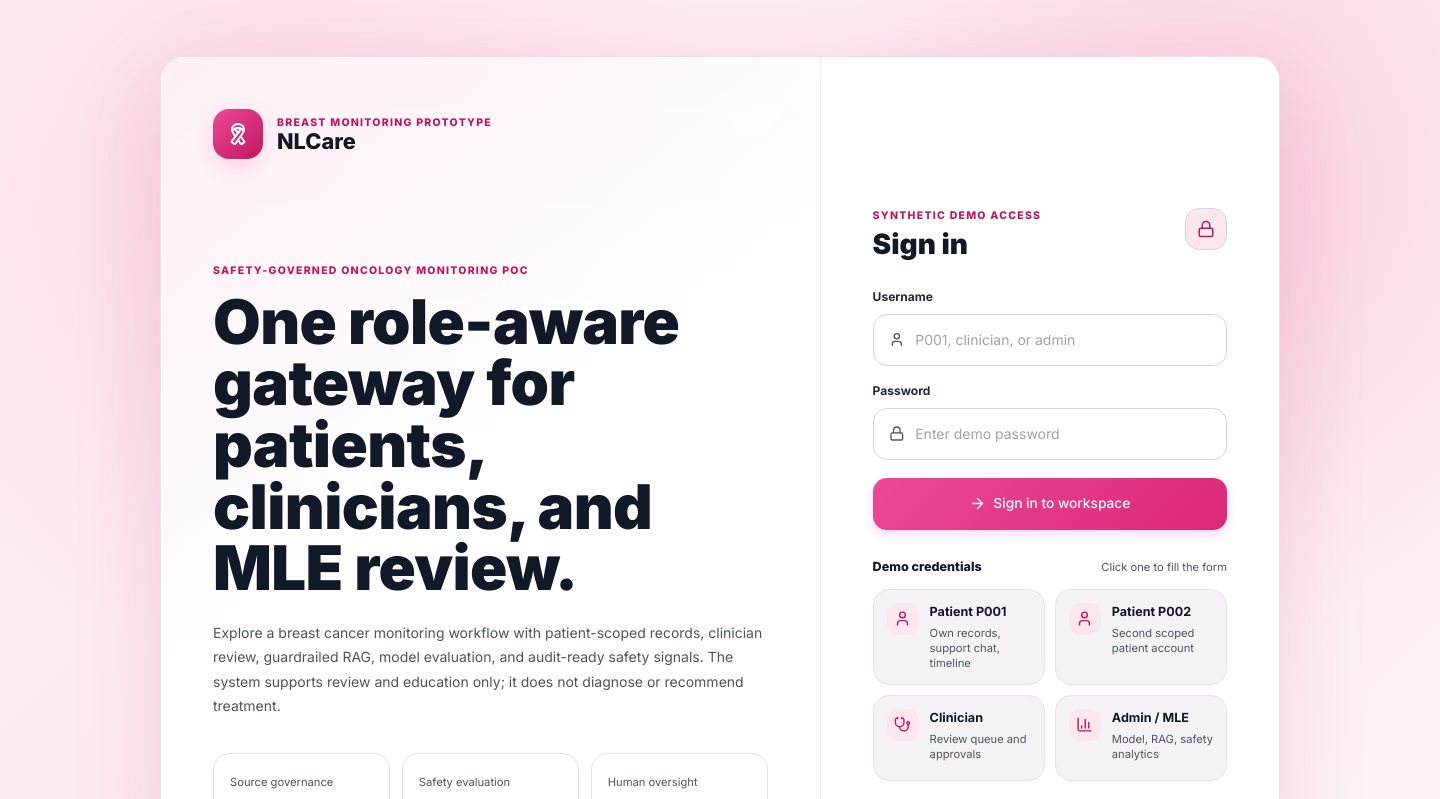
authentication and route boundaries › fills demo credentials without submitting them
The image size is (1440, 799).
Click the button "Patient P002 Second scoped patient account".
click(1141, 637)  # box [1055,589,1227,685]
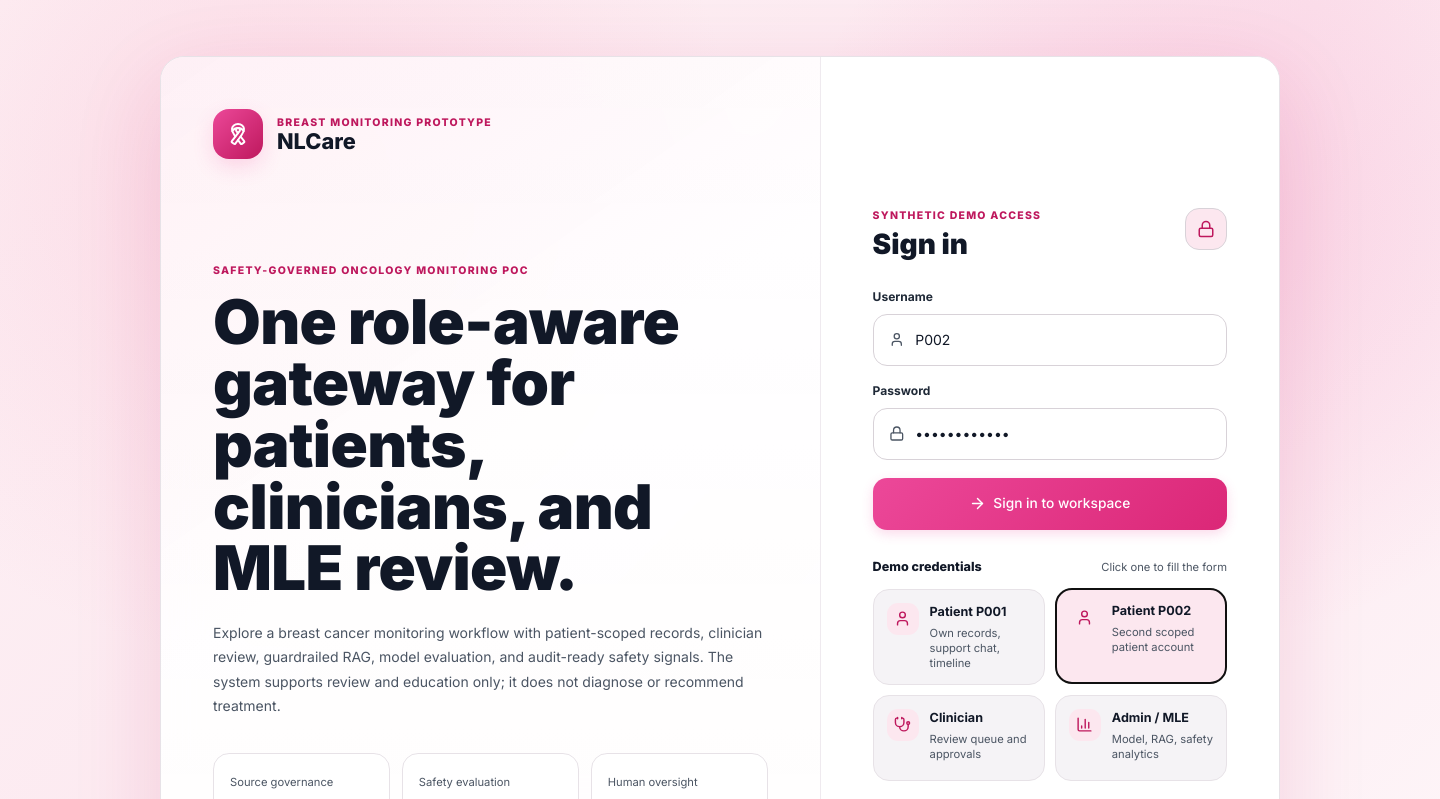
Check: the field labelled "Username" holds "P002", box [915,329,1211,350]
Check: the password field labelled "Password" holds "patient-demo", box [915,423,1211,444]
